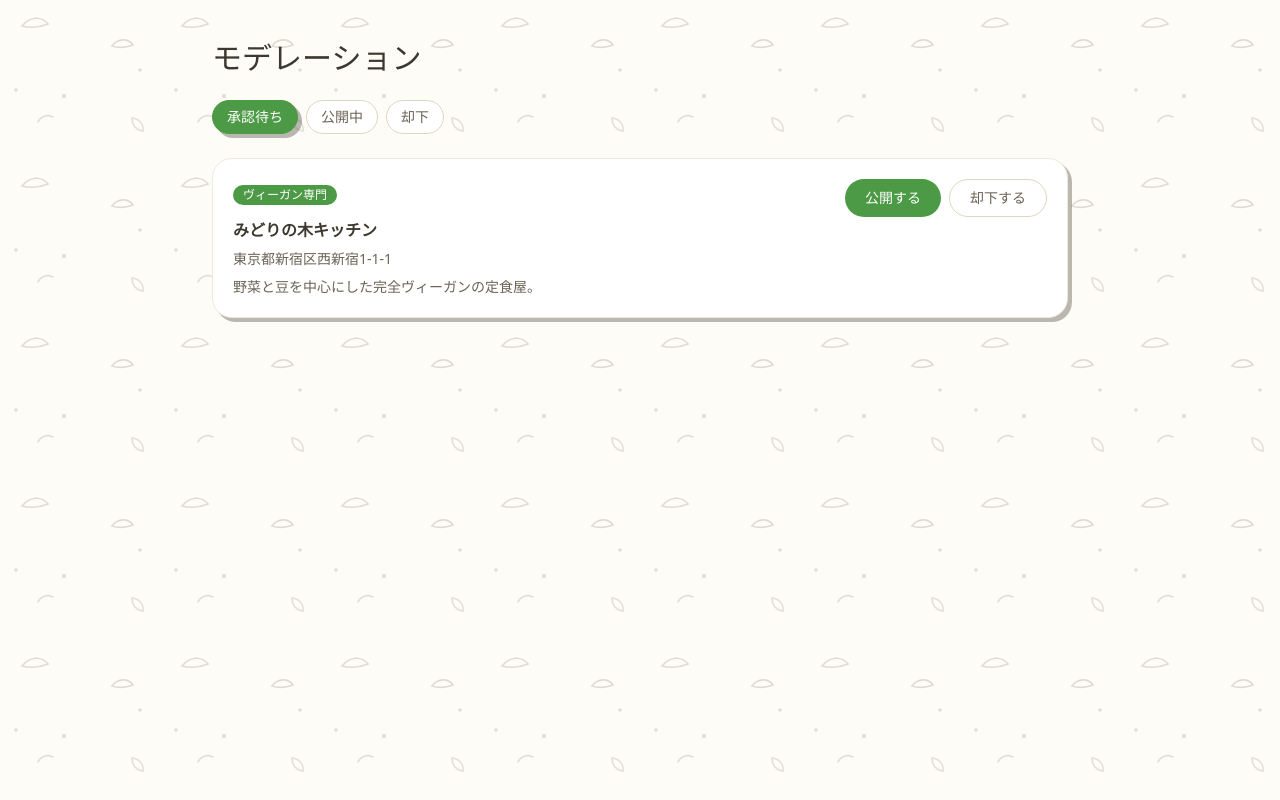
Scenario: ModerationPage › reports a failed decision instead of silently doing nothing
Expected: the link "みどりの木キッチン" is shown, x1=233 y1=219 x2=377 y2=241
What coordinates should you click on to do the following:
click the button "公開する"
I would click on:
 (893, 198)
Its box is x1=845 y1=179 x2=941 y2=217.
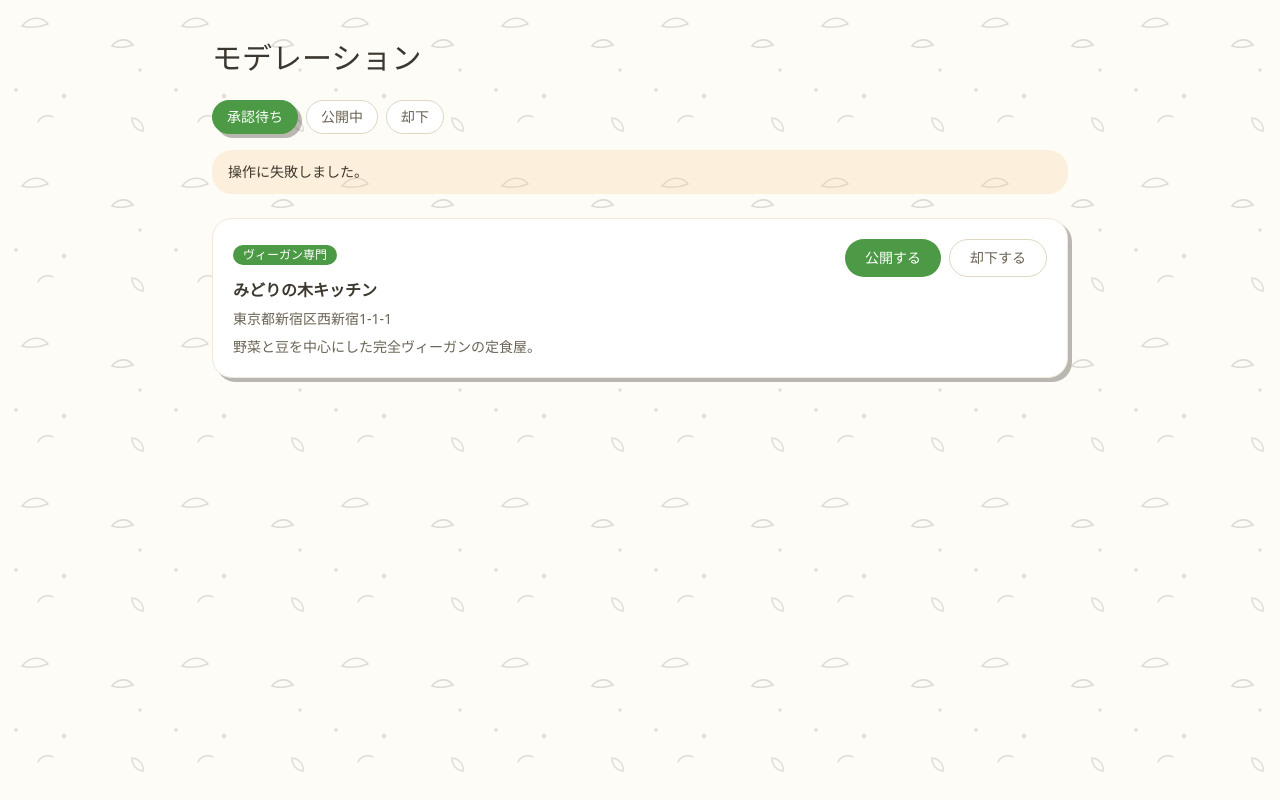
Result: the message shows "操作に失敗しました" at x1=228 y1=162 x2=368 y2=181
